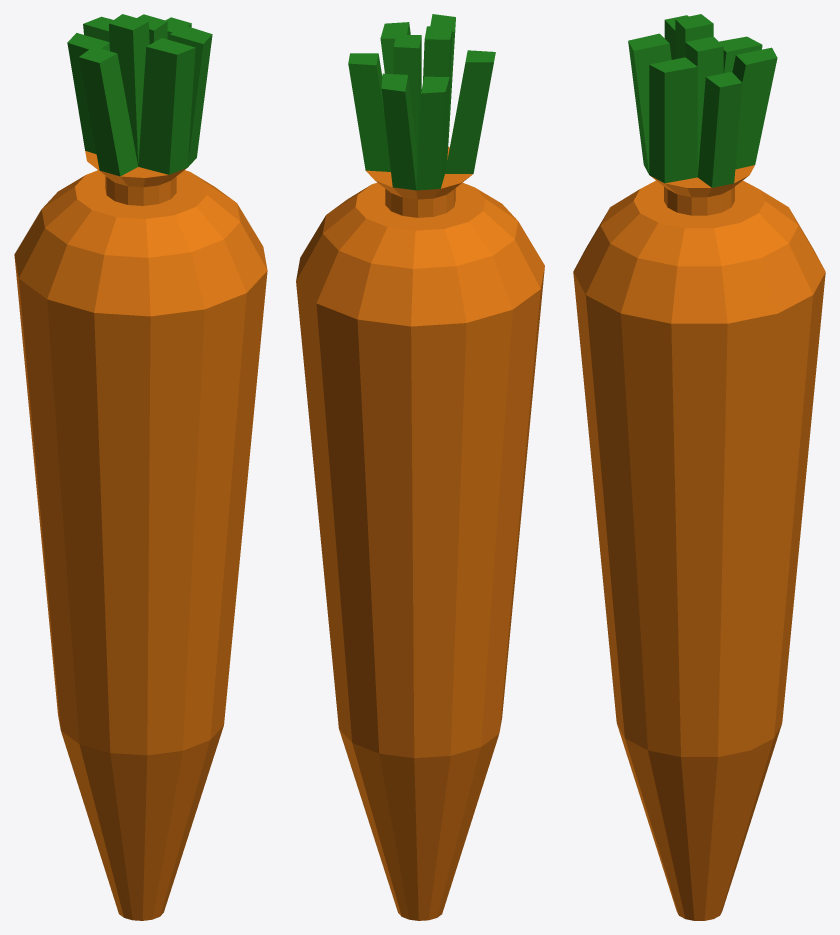
Rendered from Carrot.fbx.
3 renders of one model, left to right at view 1: azimuth 30°, elevation 25°; view 2: azimuth 150°, elevation 25°; view 3: azimuth 270°, elevation 25°, orthographic.
Parts seen in each view (by area): view 1: Carrot; view 2: Carrot; view 3: Carrot.
Part boxes in pixels (x1=…): Carrot: x1=14, y1=14, x2=267, y2=920; Carrot: x1=296, y1=14, x2=544, y2=920; Carrot: x1=573, y1=14, x2=825, y2=920.
Bounding box in the file's own units: 4.4 × 17.39 × 4.51.
